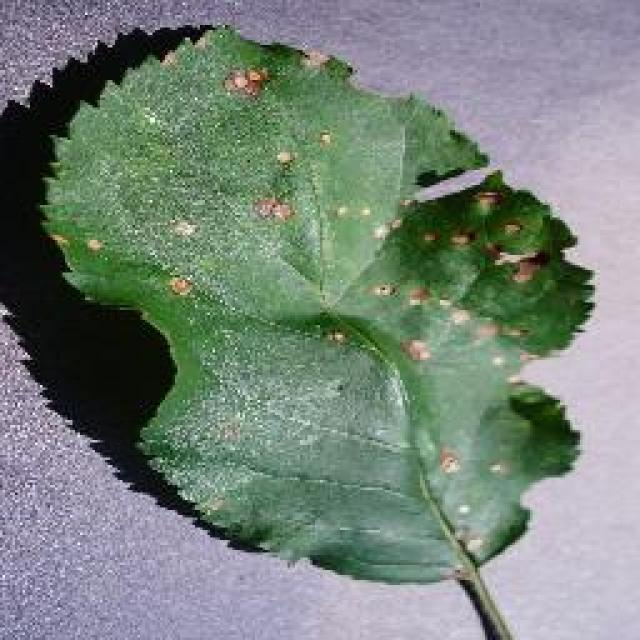apple black rot: (0, 17, 595, 585)
